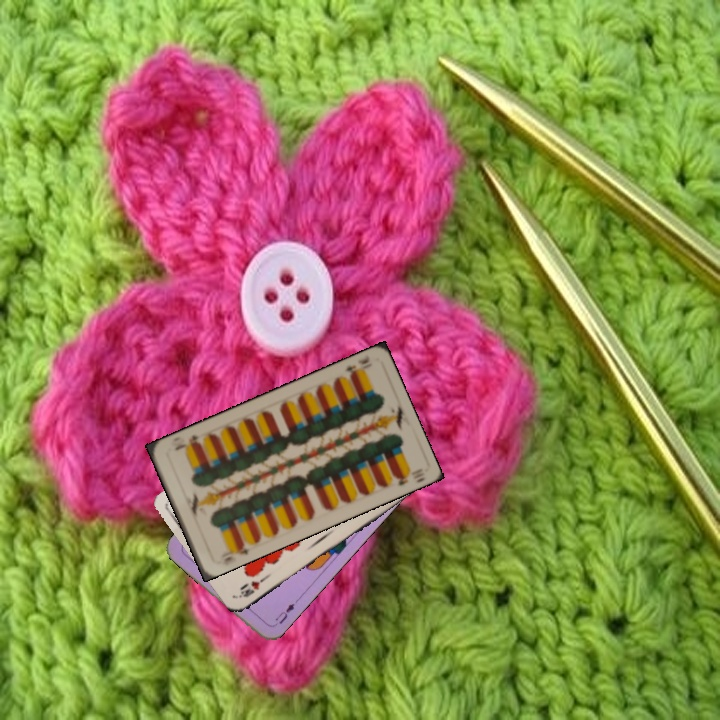E10: (212, 538, 252, 567), (341, 352, 372, 381)
EU: (269, 596, 300, 629)
H10: (236, 571, 271, 600)
